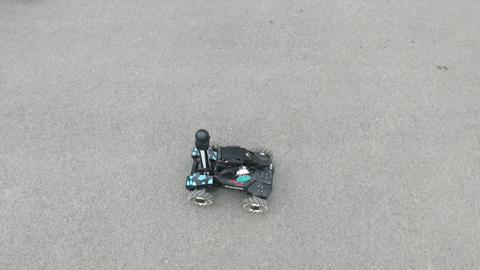chariot: (173, 126, 283, 218)
